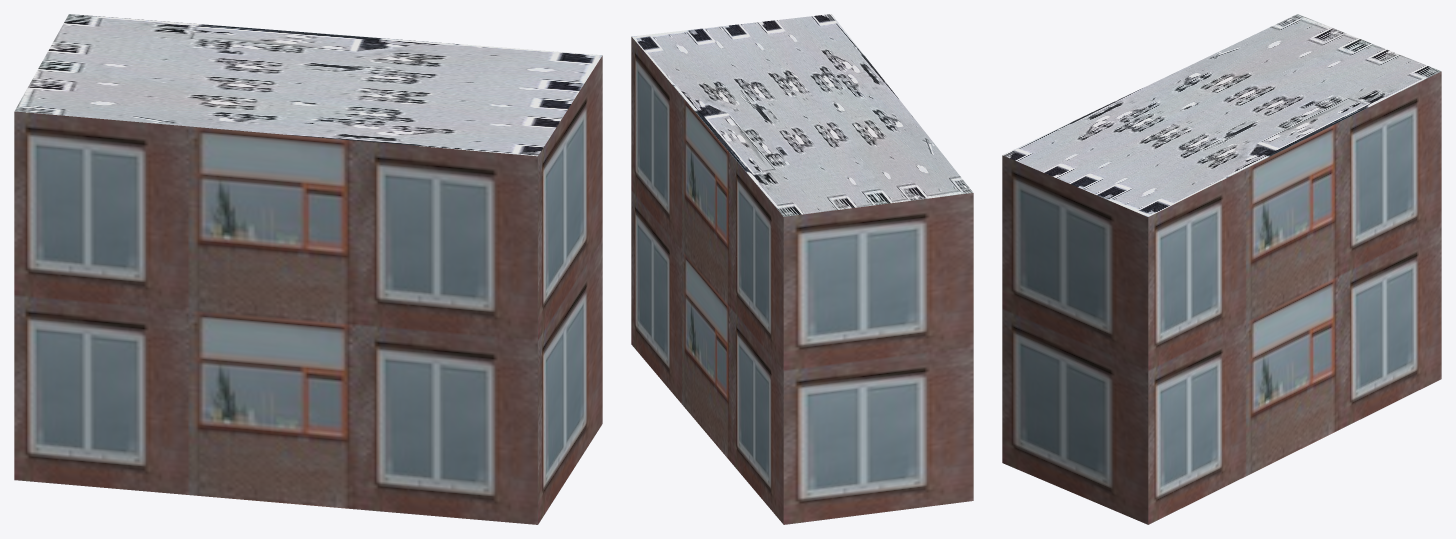
File: ResTex__4177.fbx
The picture shows the model from 3 angles, left to right: view 1: azimuth 30°, elevation 25°; view 2: azimuth 150°, elevation 25°; view 3: azimuth 270°, elevation 25°; orthographic projection. The views are drawn at different scales.
Parts seen in each view (by area): view 1: CityEngineMaterial_19_m, CityEngineMaterial_15_m; view 2: CityEngineMaterial_19_m, CityEngineMaterial_15_m; view 3: CityEngineMaterial_19_m, CityEngineMaterial_15_m.
Boxes of the visible parts, box(x1,y1,x2,y2) form: CityEngineMaterial_19_m: box(14, 55, 602, 524); CityEngineMaterial_15_m: box(14, 14, 602, 156); CityEngineMaterial_19_m: box(631, 37, 973, 524); CityEngineMaterial_15_m: box(631, 14, 973, 216); CityEngineMaterial_19_m: box(1002, 71, 1441, 524); CityEngineMaterial_15_m: box(1002, 14, 1440, 216).
Bounding box in the file's own units: 8.5 × 6 × 7.76.
2 materials, 2 textured.
